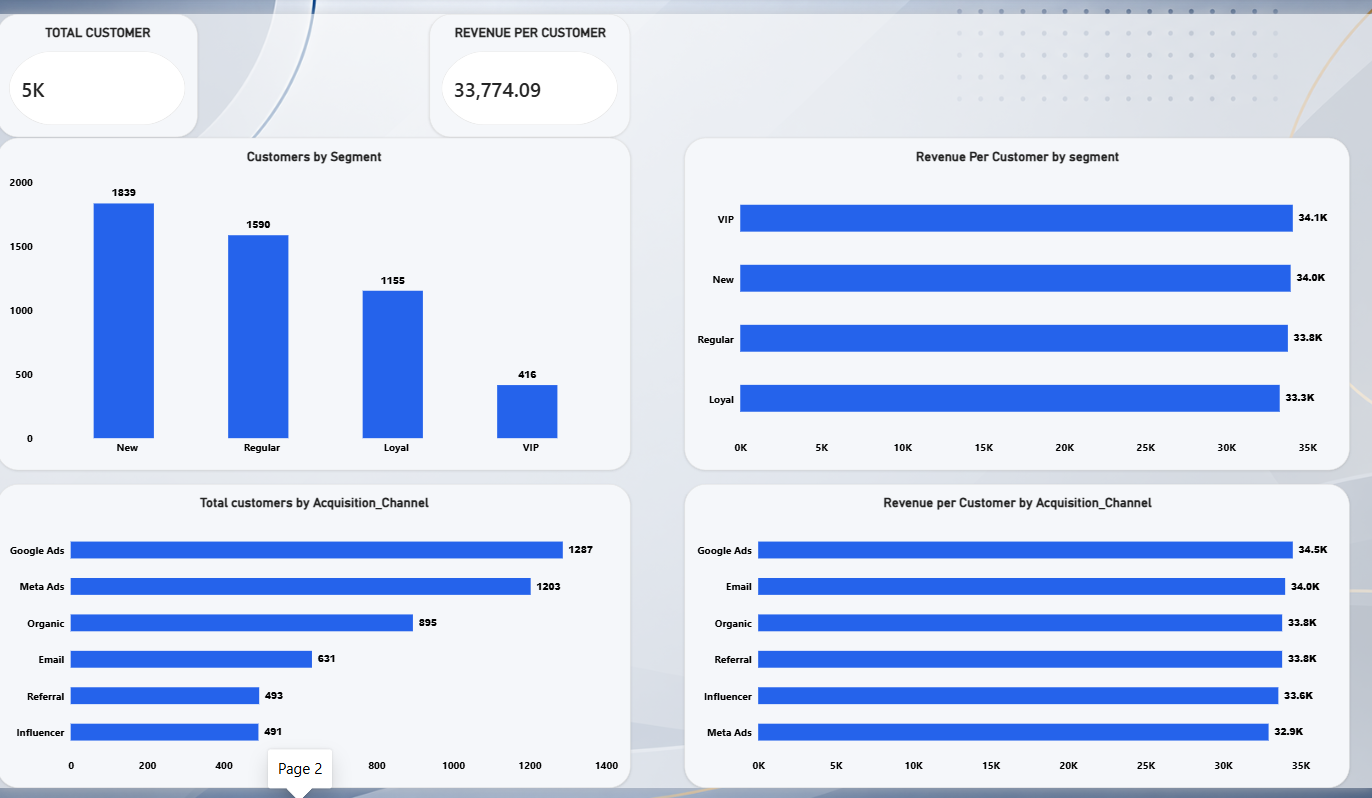

What the dashboard file says about the page in this screenshot:
{"tool":"powerbi","page":{"name":"Page 2","canvas":[1920,1080],"ordinal":1},"visuals":[{"type":"cardVisual","title":"TOTAL CUSTOMER","fields":{"Data":["Customer_Summary.Total customers"]},"box":[0,0,280,172],"z":0},{"type":"cardVisual","title":"REVENUE PER CUSTOMER","fields":{"Data":["Customer_Summary.revenue per active customer"]},"box":[604,0,280,172],"z":1},{"type":"clusteredColumnChart","title":"Customers by Segment","fields":{"Category":["Customers.Customer_Segment"],"Y":["Customer_Summary.Total customers"]},"box":[0,172,884,464],"z":2},{"type":"barChart","title":"Revenue Per Customer by segment","fields":{"Category":["Customers.Customer_Segment"],"Y":["Customer_Summary.Revenue per Customer"]},"box":[960,172,928,464],"z":3},{"type":"clusteredBarChart","fields":{"Category":["Customers.Acquisition_Channel"],"Y":["Customer_Summary.Total customers"]},"box":[0,656,884,424],"z":6},{"type":"clusteredBarChart","fields":{"Category":["Customers.Acquisition_Channel"],"Y":["Customer_Summary.Revenue per Customer"]},"box":[960,656,928,424],"z":7}]}

Visuals, with their boxes on the page's 1920x1080 design canvas (x1, y1, x2, y2). These are canvas units, not pixel positions in the 1372x798 screenshot, which may show the page scaled, cropped or inside an application window:
"TOTAL CUSTOMER" cardVisual: pyautogui.locateOnScreen(0, 0, 280, 172)
"REVENUE PER CUSTOMER" cardVisual: pyautogui.locateOnScreen(604, 0, 884, 172)
"Customers by Segment" clusteredColumnChart: pyautogui.locateOnScreen(0, 172, 884, 636)
"Revenue Per Customer by segment" barChart: pyautogui.locateOnScreen(960, 172, 1888, 636)
clusteredBarChart - Customers.Acquisition_Channel x Customer_Summary.Total customers: pyautogui.locateOnScreen(0, 656, 884, 1080)
clusteredBarChart - Customers.Acquisition_Channel x Customer_Summary.Revenue per Customer: pyautogui.locateOnScreen(960, 656, 1888, 1080)
